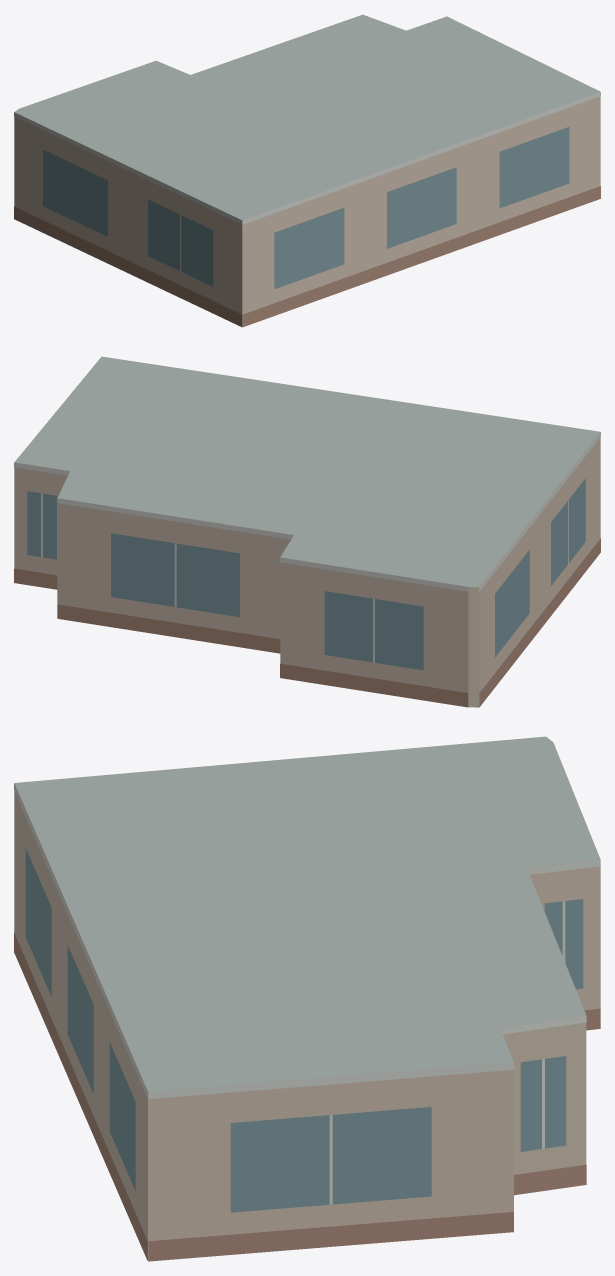
File: survey-upis-32616516.glb
The picture shows the model from 3 angles, top to bottom: view 1: azimuth 30°, elevation 25°; view 2: azimuth 150°, elevation 25°; view 3: azimuth 270°, elevation 25°; orthographic projection. The views are drawn at different scales.
Parts seen in each view (by area): view 1: survey-upis-32616516.tmp; view 2: survey-upis-32616516.tmp; view 3: survey-upis-32616516.tmp.
Part boxes in pixels (<box>): survey-upis-32616516.tmp: <box>14,14,600,327</box>; survey-upis-32616516.tmp: <box>14,356,600,707</box>; survey-upis-32616516.tmp: <box>14,736,600,1261</box>.
Bounding box in the file's own units: 13.76 × 3.05 × 9.59.
